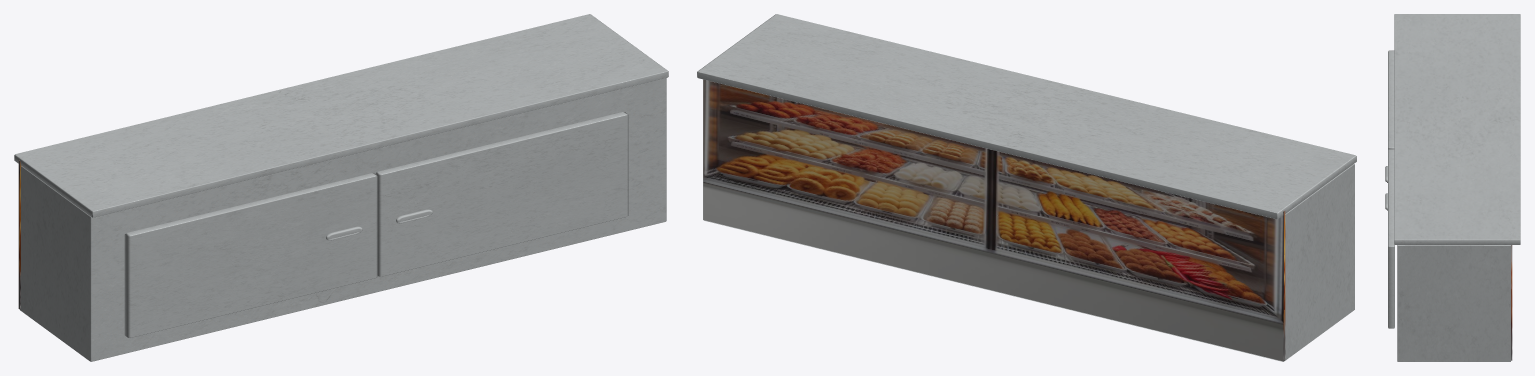
Rendered from counter.fbx.
The picture shows the model from 3 angles, left to right: view 1: azimuth 30°, elevation 25°; view 2: azimuth 150°, elevation 25°; view 3: azimuth 270°, elevation 25°; orthographic projection. The views are drawn at different scales.
Parts seen in each view (by area): view 1: TableTop.002, FFK_RegisterTable_01_01, Plane.002, Plane.001; view 2: Cube, TableTop.002, FFK_RegisterTable_01_01; view 3: TableTop.002, FFK_RegisterTable_01_01, Plane.001, Plane.002, Cube.
Boxes of the visible parts, x1,y1,x2,y2 form: TableTop.002: (14, 14, 668, 217); FFK_RegisterTable_01_01: (20, 78, 666, 361); Plane.002: (124, 173, 377, 337); Plane.001: (375, 112, 628, 276); Cube: (703, 79, 1285, 361); TableTop.002: (697, 14, 1356, 219); FFK_RegisterTable_01_01: (703, 79, 1354, 361); TableTop.002: (1394, 14, 1520, 244); FFK_RegisterTable_01_01: (1397, 245, 1510, 361); Plane.001: (1388, 149, 1394, 328); Plane.002: (1388, 50, 1394, 149); Cube: (1511, 245, 1512, 360).
Size of the model in its own units: 502 by 127 by 127.
